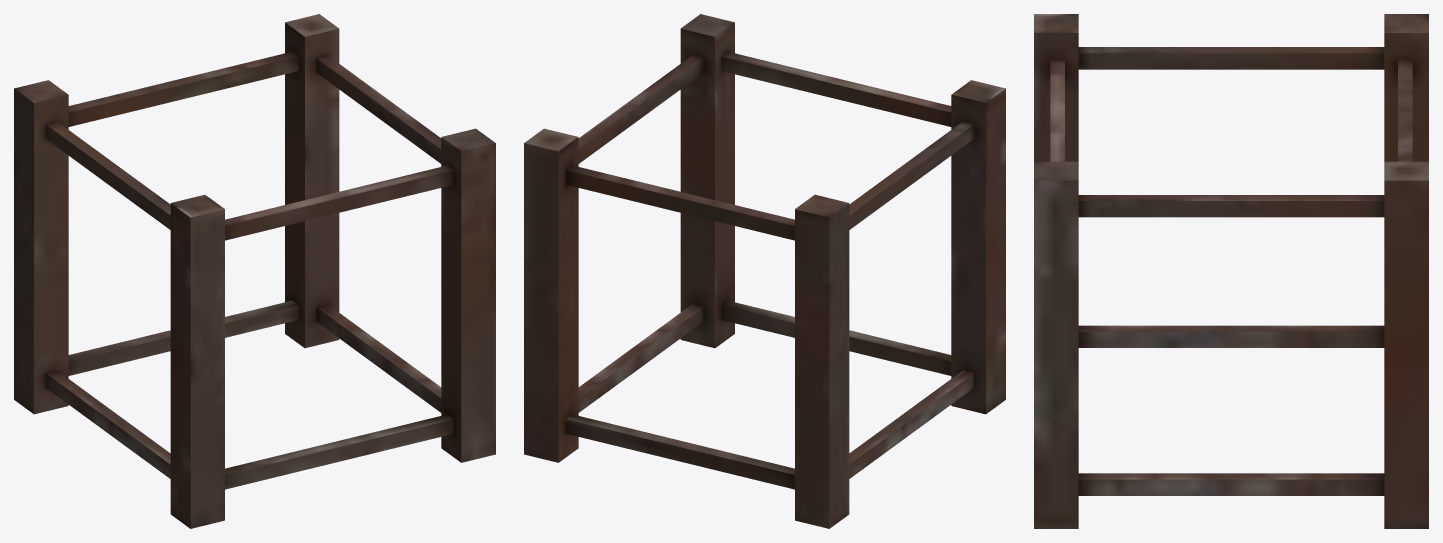
File: scaffold-small.gltf
3 renders of one model, left to right at view 1: azimuth 30°, elevation 25°; view 2: azimuth 150°, elevation 25°; view 3: azimuth 270°, elevation 25°, orthographic. The views are drawn at different scales.
Parts seen in each view (by area): view 1: Cube.049; view 2: Cube.049; view 3: Cube.049.
Part boxes in pixels (x1,y1,x2,y2): Cube.049: (14,14,495,528); Cube.049: (524,14,1005,528); Cube.049: (1034,14,1428,528).
Bounding box in the file's own units: 2.26 × 2.2 × 2.26.
1 material, 1 textured.
